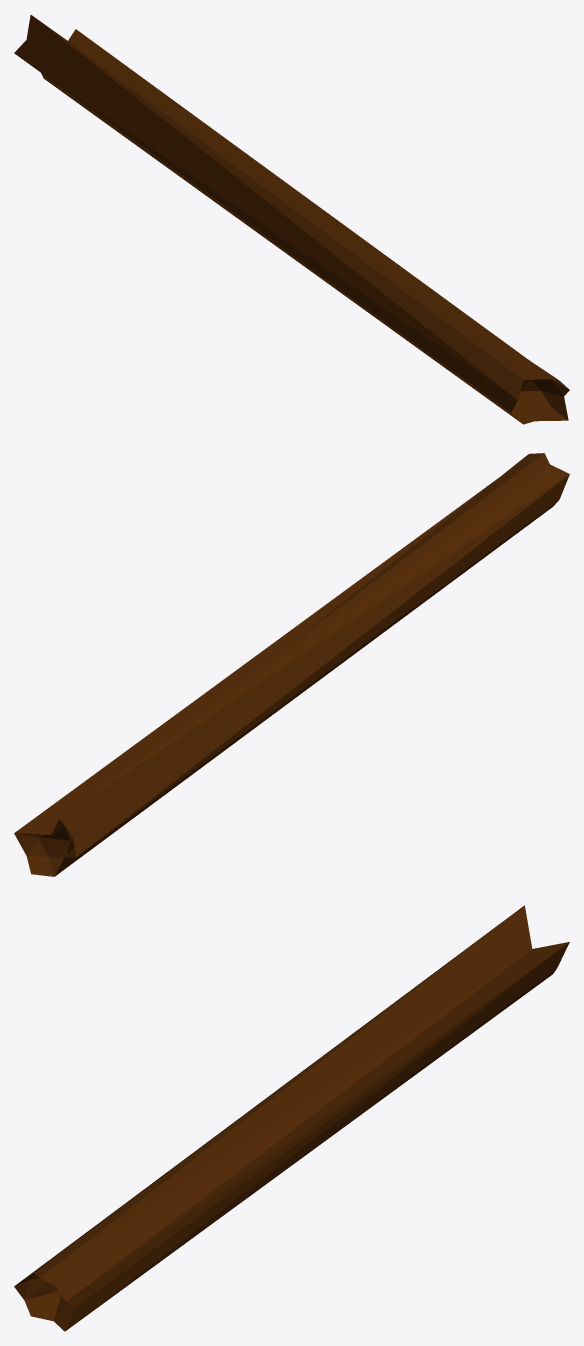
File: stick.glb
The picture shows the model from 3 angles, top to bottom: view 1: azimuth 30°, elevation 25°; view 2: azimuth 150°, elevation 25°; view 3: azimuth 330°, elevation 25°; orthographic projection.
Visible parts, largest first — view 1: Icosphere; view 2: Icosphere; view 3: Icosphere.
Part boxes in pixels (x1,y1,x2,y2): Icosphere: (14, 15, 569, 424); Icosphere: (14, 453, 569, 876); Icosphere: (14, 905, 569, 1331).
Bounding box in the file's own units: 0.2248 × 0.2206 × 3.14.
